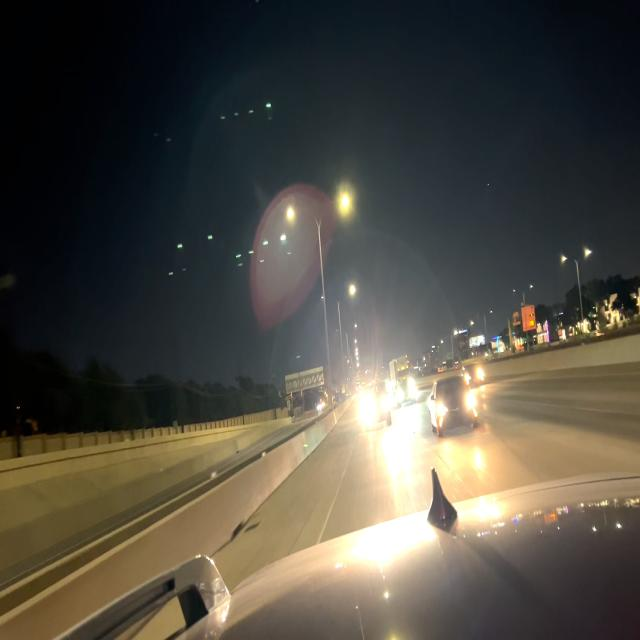back-of-sign: (284, 365, 324, 396)
